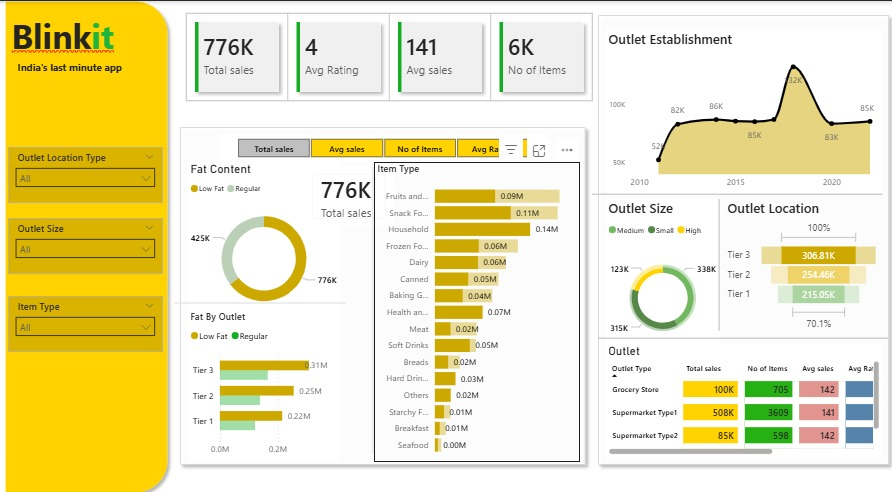

The dashboard page shown, as its layout file describes it:
{"tool":"powerbi","page":{"name":"Page 2","canvas":[1280,720],"ordinal":1},"visuals":[{"type":"shape","box":[0,0,250,720],"z":0},{"type":"textbox","box":[13.2,20.6,171.9,83.8],"z":1000},{"type":"textbox","box":[13.2,88.2,176.3,30.9],"z":2000},{"type":"cardVisual","fields":{"Data":["BlinkIT Grocery Data.Total sales","BlinkIT Grocery Data.Avg Rating","BlinkIT Grocery Data.Avg sales","BlinkIT Grocery Data.No of Items"]},"box":[250,8.3,615,160],"z":3000},{"type":"shape","box":[250,180,596.7,500],"z":4000},{"type":"donutChart","title":"Fat Content","fields":{"Y":["BlinkIT Grocery Data.Total sales"],"Category":["BlinkIT Grocery Data.Item Fat Content"]},"box":[268.3,238.3,220,230],"z":5000},{"type":"slicer","fields":{"Values":["Metrics.Metrics"]},"box":[315,198.3,465,40],"z":6000},{"type":"cardVisual","fields":{"Data":["BlinkIT Grocery Data.Total sales"]},"box":[430,238.3,140,98.3],"z":7000},{"type":"clusteredBarChart","title":"Fat By Outlet","fields":{"Y":["BlinkIT Grocery Data.Total sales"],"Category":["BlinkIT Grocery Data.Outlet Location Type"],"Series":["BlinkIT Grocery Data.Item Fat Content"]},"box":[268.3,450,220,216.7],"z":8000},{"type":"shape","box":[250,430,245,20],"z":9000},{"type":"shape","box":[520,245,28.3,410],"z":10000},{"type":"barChart","title":"Item Type","fields":{"Y":["BlinkIT Grocery Data.Total sales"],"Category":["BlinkIT Grocery Data.Item Type"]},"box":[535,238.3,295,428.3],"z":11000},{"type":"shape","box":[846.7,20,433.3,660],"z":12000},{"type":"lineChart","title":"Outlet Establishment","fields":{"Y":["BlinkIT Grocery Data.Total sales"],"Category":["BlinkIT Grocery Data.Outlet Establishment Year"]},"box":[865,50,396.7,235],"z":13000},{"type":"shape","box":[846.7,276.7,415,15],"z":14000},{"type":"donutChart","title":"Outlet Size","fields":{"Category":["BlinkIT Grocery Data.Outlet Size"],"Y":["BlinkIT Grocery Data.Total sales"]},"box":[865,291.7,165,230],"z":15000},{"type":"shape","box":[1023.3,291.7,11.7,188.3],"z":16000},{"type":"funnel","title":"Outlet Location","fields":{"Y":["Sum(BlinkIT Grocery Data.Sales)"],"Category":["BlinkIT Grocery Data.Outlet Location Type"]},"box":[1035,291.7,226.7,191.7],"z":17000},{"type":"shape","box":[855,483.3,415,15],"z":18000},{"type":"pivotTable","title":"Outlet ","fields":{"Values":["BlinkIT Grocery Data.Total sales","BlinkIT Grocery Data.No of Items","BlinkIT Grocery Data.Avg sales","BlinkIT Grocery Data.Avg Rating","Avg(BlinkIT Grocery Data.Item Visibility)"],"Rows":["BlinkIT Grocery Data.Outlet Type"]},"box":[865,498.3,396.7,163.3],"z":19000},{"type":"slicer","fields":{"Values":["BlinkIT Grocery Data.Outlet Location Type"]},"box":[13.1,217.7,221,80.2],"z":19001},{"type":"slicer","fields":{"Values":["BlinkIT Grocery Data.Outlet Size"]},"box":[13.1,319.2,221,80.2],"z":19002},{"type":"slicer","fields":{"Values":["BlinkIT Grocery Data.Item Type"]},"box":[13.1,430.5,221,80.2],"z":19003}]}

Visuals, with their boxes in screenshot pixels (x1, y1, x2, y2), scaled from the page's 1280x720 canvas onto the 892x492 screenshot:
shape: {"left": 0, "top": 0, "right": 174, "bottom": 491}
textbox: {"left": 9, "top": 14, "right": 129, "bottom": 71}
textbox: {"left": 9, "top": 60, "right": 132, "bottom": 81}
cardVisual - BlinkIT Grocery Data.Total sales x BlinkIT Grocery Data.Avg Rating: {"left": 174, "top": 6, "right": 603, "bottom": 115}
shape: {"left": 174, "top": 123, "right": 590, "bottom": 465}
"Fat Content" donutChart: {"left": 187, "top": 163, "right": 340, "bottom": 320}
slicer - Metrics.Metrics: {"left": 220, "top": 136, "right": 544, "bottom": 163}
cardVisual - BlinkIT Grocery Data.Total sales: {"left": 300, "top": 163, "right": 397, "bottom": 230}
"Fat By Outlet" clusteredBarChart: {"left": 187, "top": 308, "right": 340, "bottom": 456}
shape: {"left": 174, "top": 294, "right": 345, "bottom": 308}
shape: {"left": 362, "top": 167, "right": 382, "bottom": 448}
"Item Type" barChart: {"left": 373, "top": 163, "right": 578, "bottom": 456}
shape: {"left": 590, "top": 14, "right": 891, "bottom": 465}
"Outlet Establishment" lineChart: {"left": 603, "top": 34, "right": 879, "bottom": 195}
shape: {"left": 590, "top": 189, "right": 879, "bottom": 199}
"Outlet Size" donutChart: {"left": 603, "top": 199, "right": 718, "bottom": 356}
shape: {"left": 713, "top": 199, "right": 721, "bottom": 328}
"Outlet Location" funnel: {"left": 721, "top": 199, "right": 879, "bottom": 330}
shape: {"left": 596, "top": 330, "right": 885, "bottom": 341}
"Outlet " pivotTable: {"left": 603, "top": 341, "right": 879, "bottom": 452}
slicer - BlinkIT Grocery Data.Outlet Location Type: {"left": 9, "top": 149, "right": 163, "bottom": 204}
slicer - BlinkIT Grocery Data.Outlet Size: {"left": 9, "top": 218, "right": 163, "bottom": 273}
slicer - BlinkIT Grocery Data.Item Type: {"left": 9, "top": 294, "right": 163, "bottom": 349}
